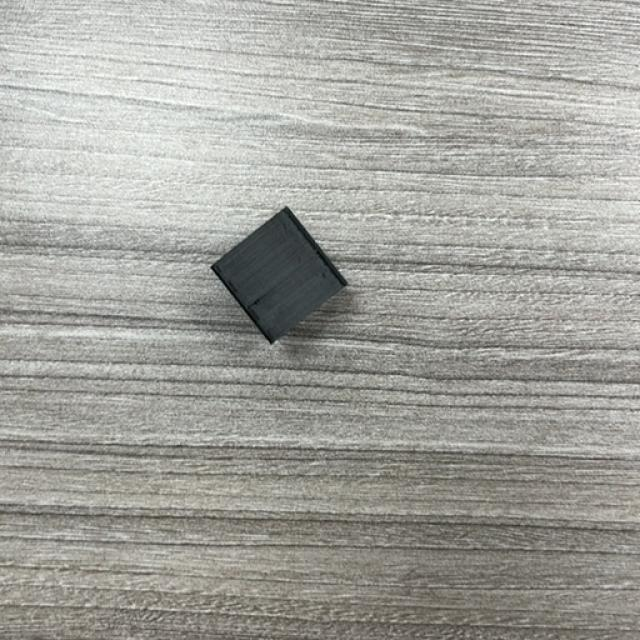Negro: (210, 208, 349, 345)
